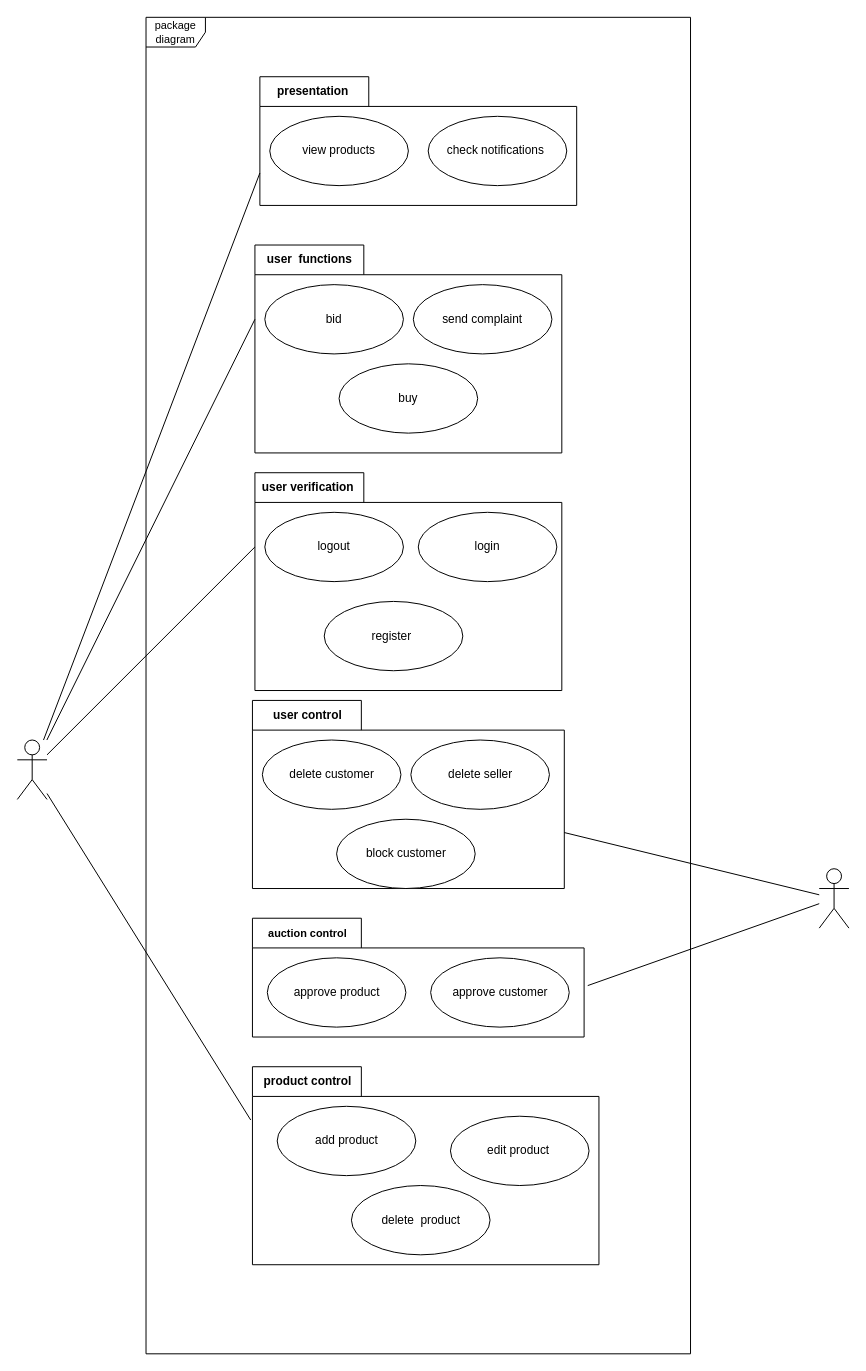
This 866x1371 diagram has some shape labels left out. The shapes that lost their labels are listed below. From the top down, each one's centre as x and y in pixels, then its label:
(x=31, y=769): user
(x=833, y=898): admin
